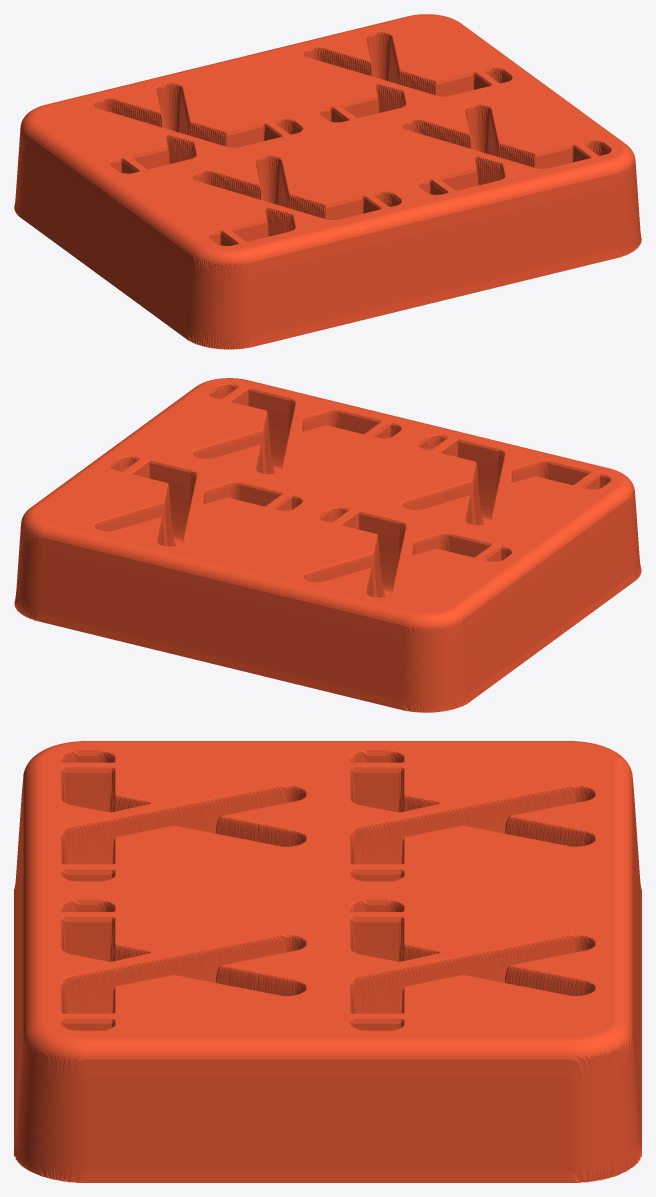
File: mold.glb
3 views of the same model, one above another, from view 1: azimuth 30°, elevation 25°; view 2: azimuth 150°, elevation 25°; view 3: azimuth 270°, elevation 25° (orthographic). The views are drawn at different scales.
Parts seen in each view (by area): view 1: geometry_0; view 2: geometry_0; view 3: geometry_0.
Boxes of the visible parts, x1,y1,x2,y2 form: geometry_0: [14, 14, 641, 349]; geometry_0: [14, 378, 641, 712]; geometry_0: [14, 741, 641, 1182].
Size of the model in its own units: 0.0942 by 0.0182 by 0.0782.
